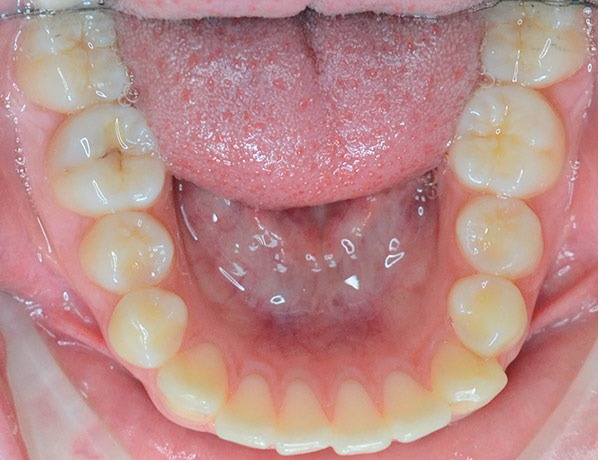LL1BC_healthy: (449, 275, 527, 354)
LL1M_healthy: (462, 91, 564, 195)
LL2BC_healthy: (457, 198, 527, 277)
LL2M_healthy: (483, 7, 585, 86)
LLCI_healthy: (333, 382, 389, 453)
LLC_healthy: (434, 346, 508, 406)
LLLI_healthy: (387, 374, 449, 440)
LR1BC_healthy: (109, 288, 187, 367)
LR1M_decay: (52, 105, 162, 210)
LR2BC_healthy: (82, 211, 174, 291)
LR2M_healthy: (20, 15, 122, 108)
LRCI_healthy: (281, 383, 330, 454)
LRC_healthy: (164, 344, 228, 414)
LRLI_healthy: (223, 377, 279, 448)
